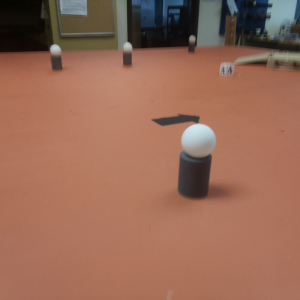obstacle: (175, 125, 223, 199), (45, 44, 67, 72), (119, 40, 136, 67), (184, 35, 198, 55)
side: (269, 58, 300, 71)
slope: (236, 54, 267, 67)
